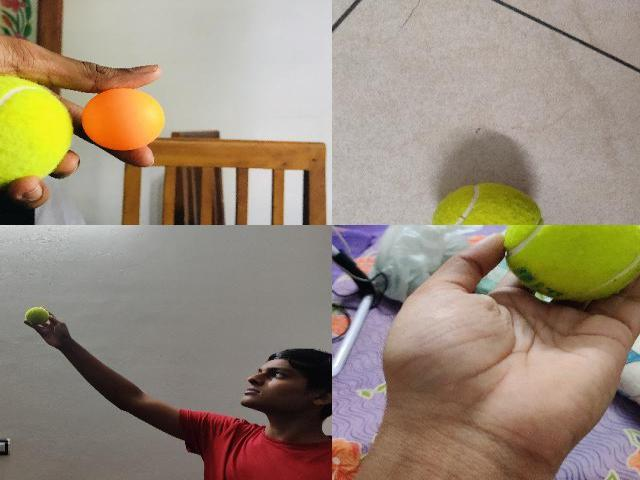tennis-ball: (503, 225, 639, 302), (0, 76, 74, 191), (430, 182, 544, 224), (24, 307, 50, 325)
